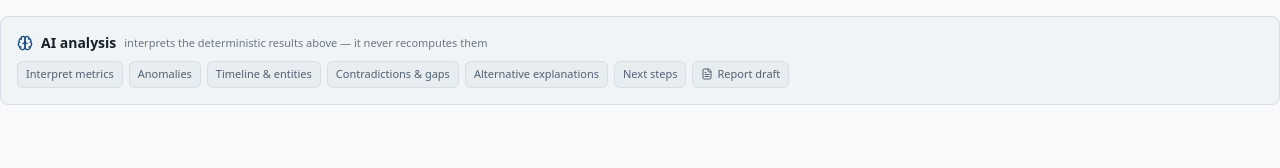
Test: AnalysisPanel › reports a failed stream as a failure, never as an analysis
This screenshot has width=1280, height=168.
Click the button with test id "analysis-action-interpret".
click(70, 74)  # box top-left (17, 61), bottom-right (123, 88)
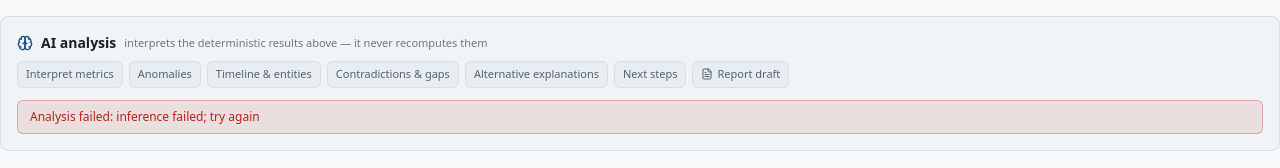
Expected: the message with test id "analysis-error" reads "Analysis failed: inference failed; try again", top-left (17, 100), bottom-right (1263, 134)
